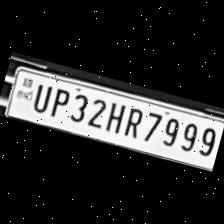2: (83, 92, 109, 130)
3: (64, 88, 90, 124)
7: (137, 105, 163, 144)
9: (172, 115, 206, 154), (194, 120, 222, 157), (156, 110, 182, 148)
H: (100, 97, 127, 134)
P: (46, 82, 72, 120)
R: (119, 100, 146, 139)
U: (26, 78, 53, 114)
